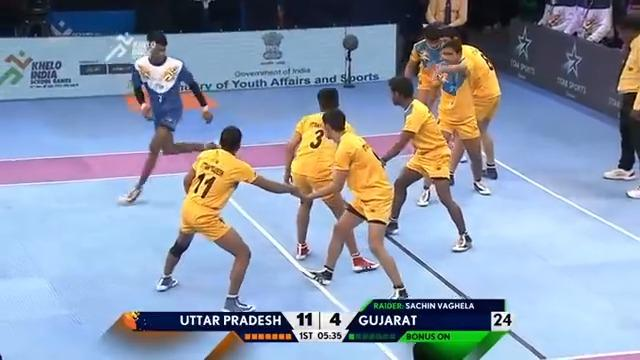Player: (155, 125, 305, 312), (303, 108, 409, 299), (282, 87, 380, 272), (378, 75, 473, 252), (428, 36, 501, 196), (403, 22, 459, 206), (602, 32, 639, 198)
Raider: (117, 29, 219, 205)
